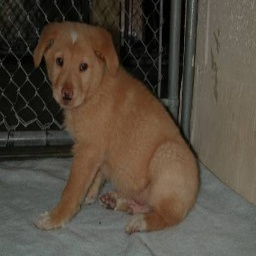dog: (30, 20, 204, 237)
